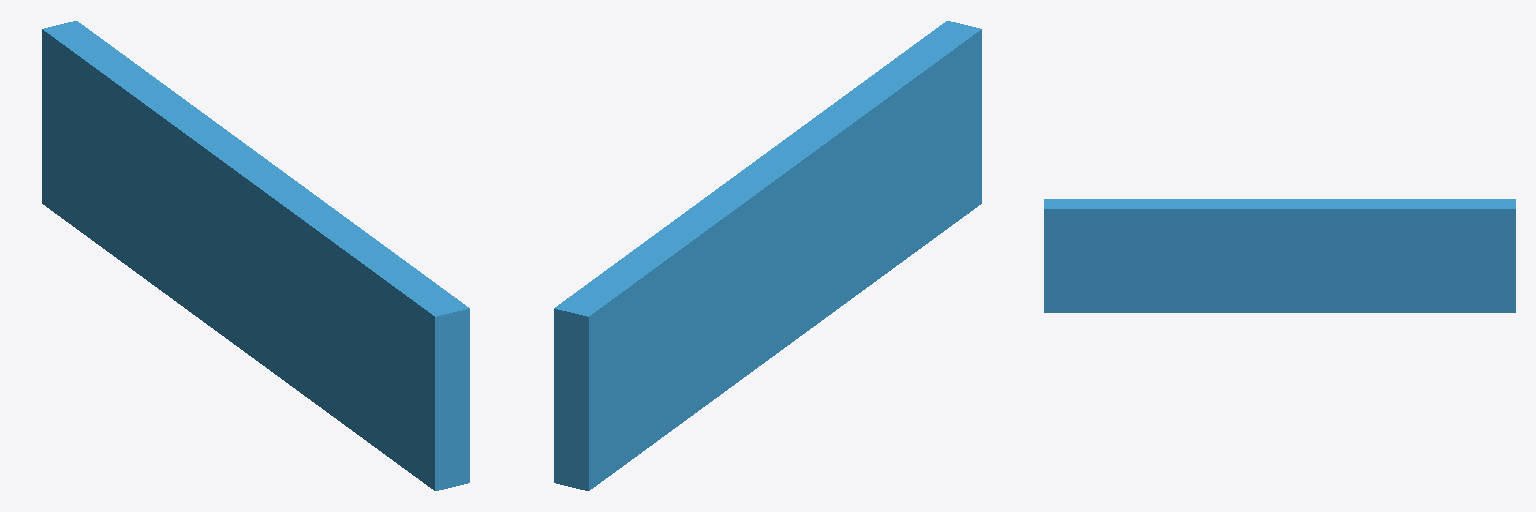
The robot description file, URDF, robot "box_59":
<?xml version="1.0" encoding="utf-8"?>    
    
    <robot name="box_59">
        <link name="box_59">    
            <fem>
                <origin rpy="0.0 0.0 0.0" xyz="0 0 0" />
                <density value="100" />
                <youngs value="5353"/>
                <poissons value="0.3"/>
                <damping value="0.0" /> 
                <attachDistance value="0.01"/>
                <tetmesh filename="../../../../Custom_mesh/physical_dvrk/multi_box_5kPa/box_59.tet"/>
                <scale value="1.0"/>
            </fem>
        </link>
        
        <link name="fix_frame">
            <visual>
                <origin xyz="-10.080 0.0 0.0"/>              
                <geometry>
                    <box size="0.005 0.098 0.024"/>
                </geometry>
            </visual>
            <collision>
                <origin xyz="-0.080 0.0 0.0"/>              
                <geometry>
                    <box size="0.005 0.098 0.024"/>
                </geometry>
            </collision>
            <inertial>
                <mass value="500000"/>
                <inertia ixx="0.05" ixy="0.0" ixz="0.0" iyy="0.05" iyz="0.0" izz="0.05"/>
            </inertial>
        </link>
        
        <joint name = "attach" type = "fixed">
            <origin xyz = "0.0 0.0 0.0" rpy = "0 0 0"/>
            <parent link = "box_59"/>
            <child link = "fix_frame"/>
        </joint>  
        
    </robot>
    

--- Facts derived from the render (not from the file) ---
The picture shows the robot from 3 angles, left to right: view 1: azimuth 30°, elevation 25°; view 2: azimuth 150°, elevation 25°; view 3: azimuth 270°, elevation 25°; orthographic projection.
Model box_59 with 2 links and 1 joints (1 fixed), rooted at box_59, posed all joints at 0.
Visible links, largest first — view 1: fix_frame; view 2: fix_frame; view 3: fix_frame.
Boxes of the visible links, x1,y1,x2,y2 form: fix_frame: (42, 21, 469, 490); fix_frame: (554, 21, 981, 490); fix_frame: (1044, 199, 1515, 312).
Size in the robot's own frame: 0.005 by 0.098 by 0.024 metres.
Geometry: primitives only (box / cylinder / sphere), no mesh files.